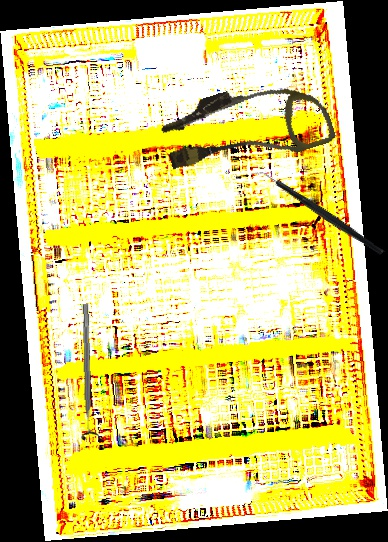Cannula: (156, 64, 337, 189)
Chopper: (249, 136, 385, 290)
Fixation Ring: (75, 303, 101, 440)
